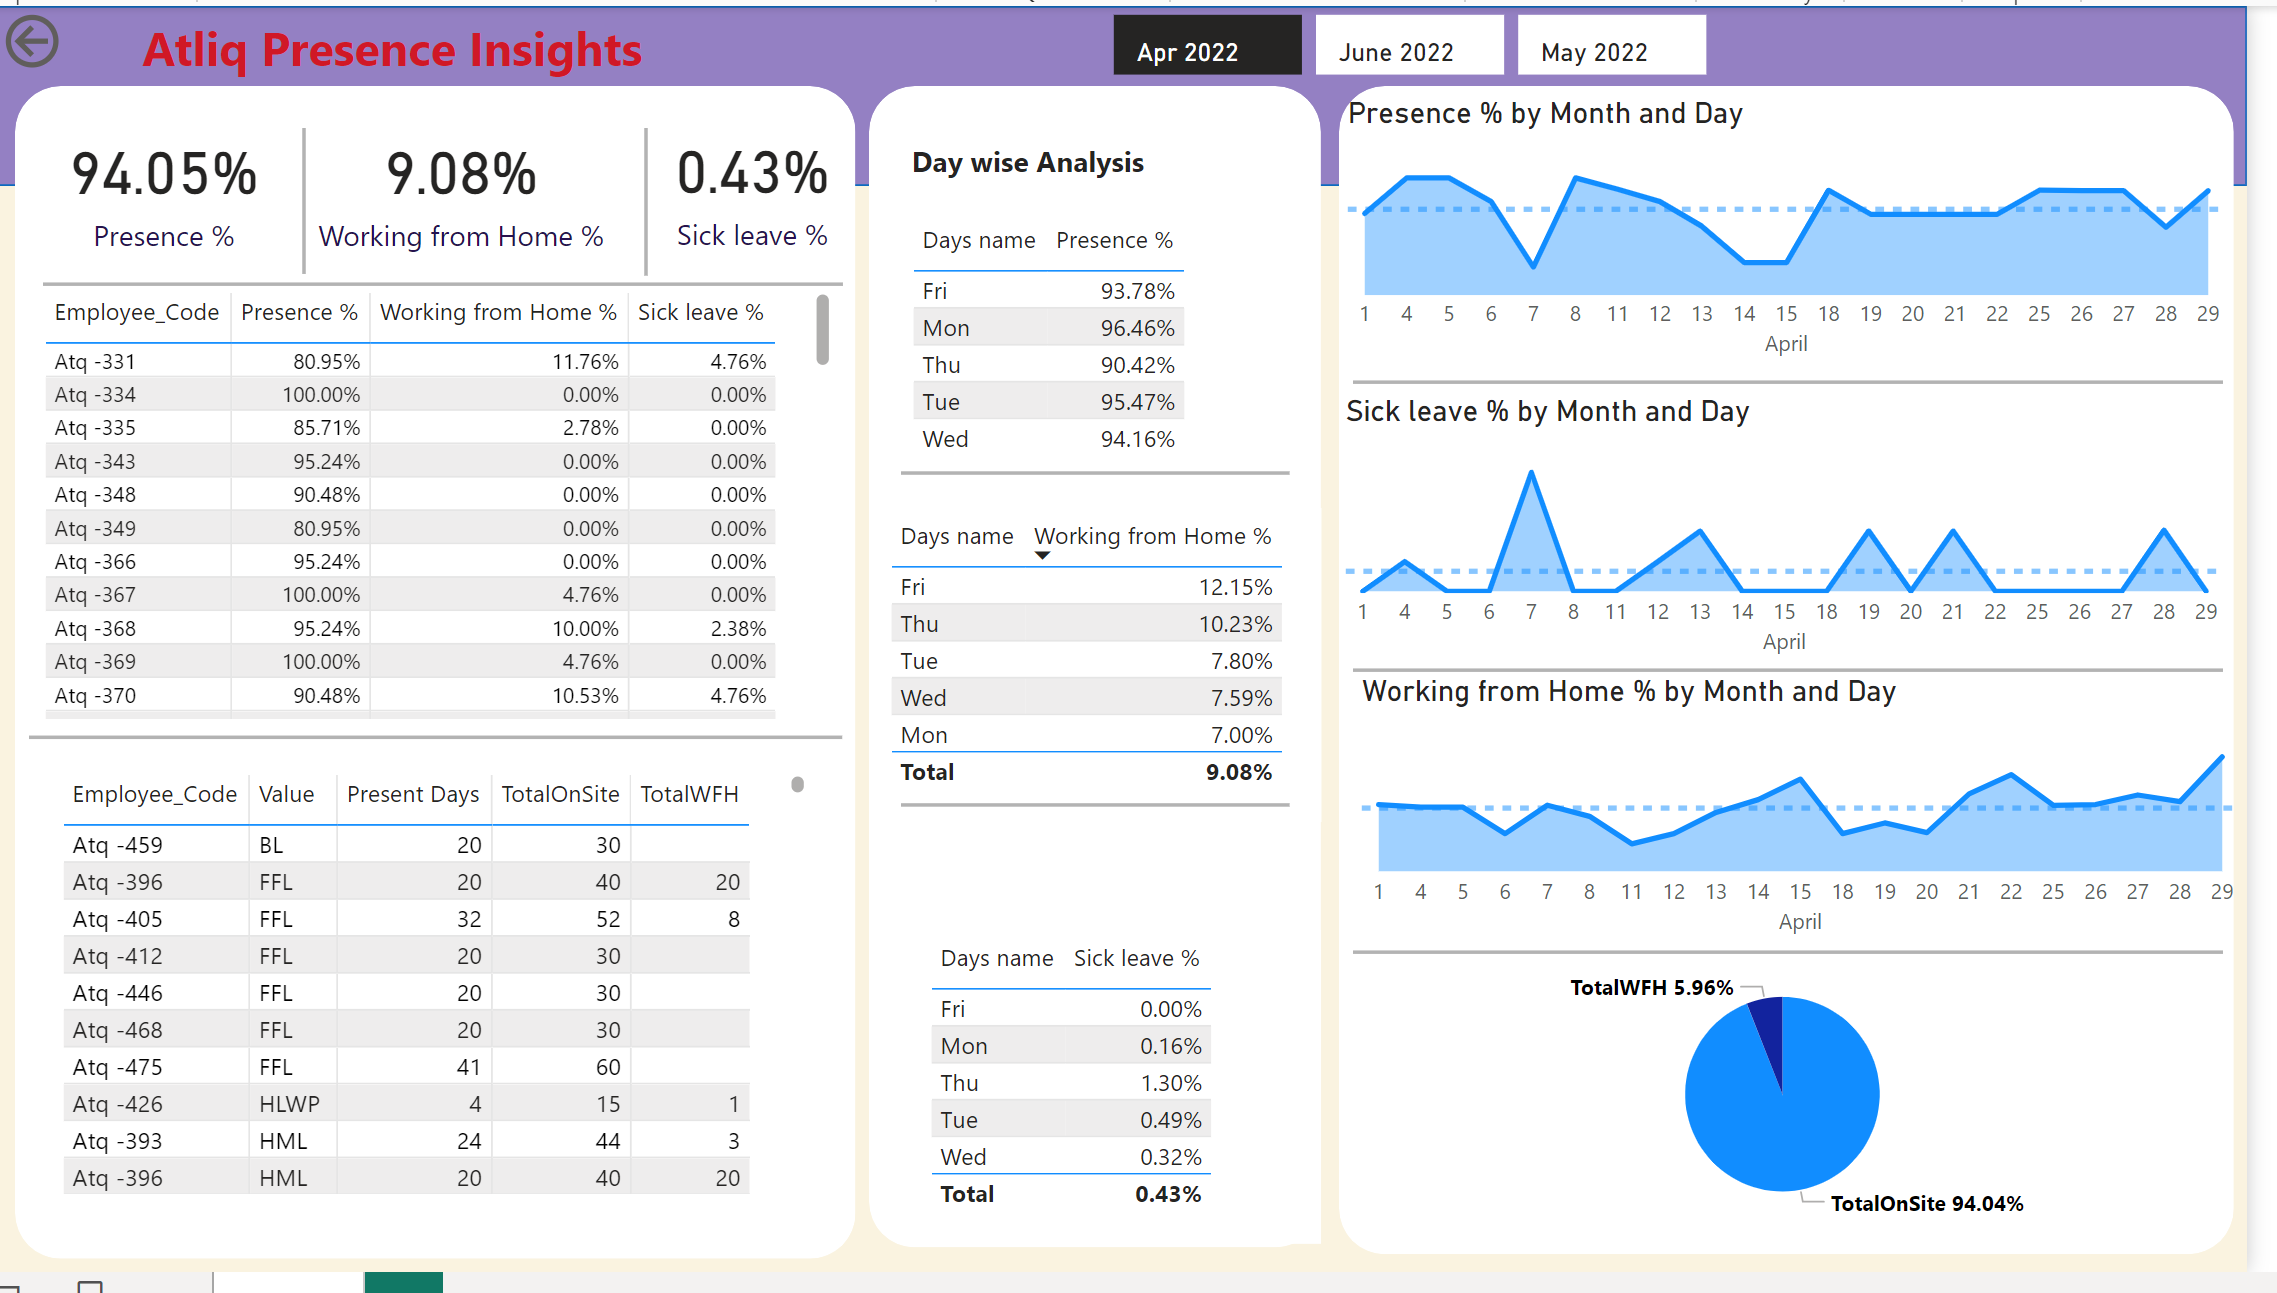

This screenshot's page, from the dashboard's own definition file:
{"tool":"powerbi","page":{"name":"Page 1","canvas":[1280,720],"ordinal":0},"visuals":[{"type":"shape","box":[0,0,1279.6,102.4],"z":0},{"type":"shape","box":[496.1,45,257,660.6],"z":1000},{"type":"shape","box":[763.4,45,508.9,664.4],"z":2000},{"type":"shape","box":[10.3,45,478.1,667],"z":3000},{"type":"card","fields":{"Values":["measure table.Sick leave %"]},"box":[368.8,56.5,122.1,91.2],"z":4000},{"type":"card","fields":{"Values":["measure table.Presence %"]},"box":[21.8,57.8,146.5,90],"z":5000},{"type":"advancedSlicerVisual","fields":{"Values":["Combined Data.Work Sheet"]},"box":[629.7,0,348.3,45],"z":6000},{"type":"card","fields":{"Values":["measure table.Working From Home %"]},"box":[174.8,57.8,177.3,90],"z":7000},{"type":"tableEx","fields":{"Values":["Combined Data.Employee_Code","measure table.Presence %","measure table.Working from Home %","measure table.Sick leave %"]},"box":[21.8,158.1,457.5,251.9],"z":8000},{"type":"shape","box":[168.3,69.4,12.5,83],"z":9000},{"type":"shape","box":[362.8,69.4,12.5,84.2],"z":10000},{"type":"shape","box":[25.7,152.9,454.9,11.6],"z":11000},{"type":"textbox","box":[52,0,345,63],"z":12000},{"type":"pieChart","fields":{"Y":["measure table.TotalOnSite","measure table.TotalWFH"]},"box":[776.2,543.6,479.4,150.4],"z":13000},{"type":"tableEx","fields":{"Values":["Combined Data.Employee_Code","Combined Data.Value","measure table.Present Days","measure table.TotalOnSite","measure table.TotalWFH"]},"box":[32.1,431.8,433.1,248],"z":14000},{"type":"stackedAreaChart","fields":{"Y":["measure table.Presence %"],"Category":["Combined Data.Date.Variation.Date Hierarchy.Month","Combined Data.Date.Variation.Date Hierarchy.Day"]},"box":[763.4,51.4,508.9,163.2],"z":15000},{"type":"actionButton","box":[0,0,100,40],"z":16000},{"type":"tableEx","fields":{"Values":["Combined Data.Days name","measure table.Presence %"]},"box":[515.3,116.9,179.9,143.9],"z":17000},{"type":"tableEx","fields":{"Values":["Combined Data.Days name","measure table.Working from Home %"]},"box":[502.5,285.3,250.6,178.6],"z":18000},{"type":"tableEx","fields":{"Values":["Combined Data.Days name","measure table.Sick leave %"]},"box":[525.5,525.5,227.5,178.6],"z":19000},{"type":"textbox","box":[515.3,72,203.1,32.1],"z":20000},{"type":"shape","box":[18,410,462.7,12.9],"z":21000},{"type":"shape","box":[771.1,208.2,494.8,11.6],"z":22000},{"type":"shape","box":[514.1,260.9,221,10.3],"z":23000},{"type":"shape","box":[514.1,444.7,221,19.3],"z":24000},{"type":"stackedAreaChart","fields":{"Category":["Combined Data.Date.Variation.Date Hierarchy.Month","Combined Data.Date.Variation.Date Hierarchy.Day"],"Y":["measure table.Sick leave %"]},"box":[762.1,221,508.9,163.2],"z":25000},{"type":"stackedAreaChart","fields":{"Category":["Combined Data.Date.Variation.Date Hierarchy.Month","Combined Data.Date.Variation.Date Hierarchy.Day"],"Y":["measure table.Working from Home %"]},"box":[771.1,380.4,508.9,163.2],"z":26000},{"type":"shape","box":[771.1,371.4,494.8,11.6],"z":27000},{"type":"shape","box":[771.1,532,494.8,11.6],"z":28000}]}

Visuals, with their boxes on the page's 1280x720 design canvas (x1, y1, x2, y2). These are canvas units, not pixel positions in the 2277x1293 screenshot, which may show the page scaled, cropped or inside an application window:
shape: box(0, 0, 1280, 102)
shape: box(496, 45, 753, 706)
shape: box(763, 45, 1272, 709)
shape: box(10, 45, 488, 712)
card - measure table.Sick leave %: box(369, 56, 491, 148)
card - measure table.Presence %: box(22, 58, 168, 148)
advancedSlicerVisual - Combined Data.Work Sheet: box(630, 0, 978, 45)
card - measure table.Working From Home %: box(175, 58, 352, 148)
tableEx - Combined Data.Employee_Code x measure table.Presence %: box(22, 158, 479, 410)
shape: box(168, 69, 181, 152)
shape: box(363, 69, 375, 154)
shape: box(26, 153, 481, 164)
textbox: box(52, 0, 397, 63)
pieChart - measure table.TotalOnSite x measure table.TotalWFH: box(776, 544, 1256, 694)
tableEx - Combined Data.Employee_Code x Combined Data.Value: box(32, 432, 465, 680)
stackedAreaChart - measure table.Presence % x Combined Data.Date.Variation.Date Hierarchy.Month: box(763, 51, 1272, 215)
actionButton: box(0, 0, 100, 40)
tableEx - Combined Data.Days name x measure table.Presence %: box(515, 117, 695, 261)
tableEx - Combined Data.Days name x measure table.Working from Home %: box(502, 285, 753, 464)
tableEx - Combined Data.Days name x measure table.Sick leave %: box(526, 526, 753, 704)
textbox: box(515, 72, 718, 104)
shape: box(18, 410, 481, 423)
shape: box(771, 208, 1266, 220)
shape: box(514, 261, 735, 271)
shape: box(514, 445, 735, 464)
stackedAreaChart - Combined Data.Date.Variation.Date Hierarchy.Month x Combined Data.Date.Variation.Date Hierarchy.Day: box(762, 221, 1271, 384)
stackedAreaChart - Combined Data.Date.Variation.Date Hierarchy.Month x Combined Data.Date.Variation.Date Hierarchy.Day: box(771, 380, 1280, 544)
shape: box(771, 371, 1266, 383)
shape: box(771, 532, 1266, 544)
